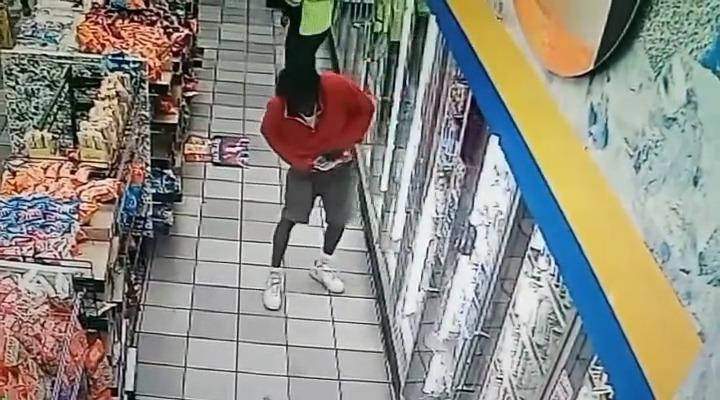shoplifting: (259, 54, 392, 311)
